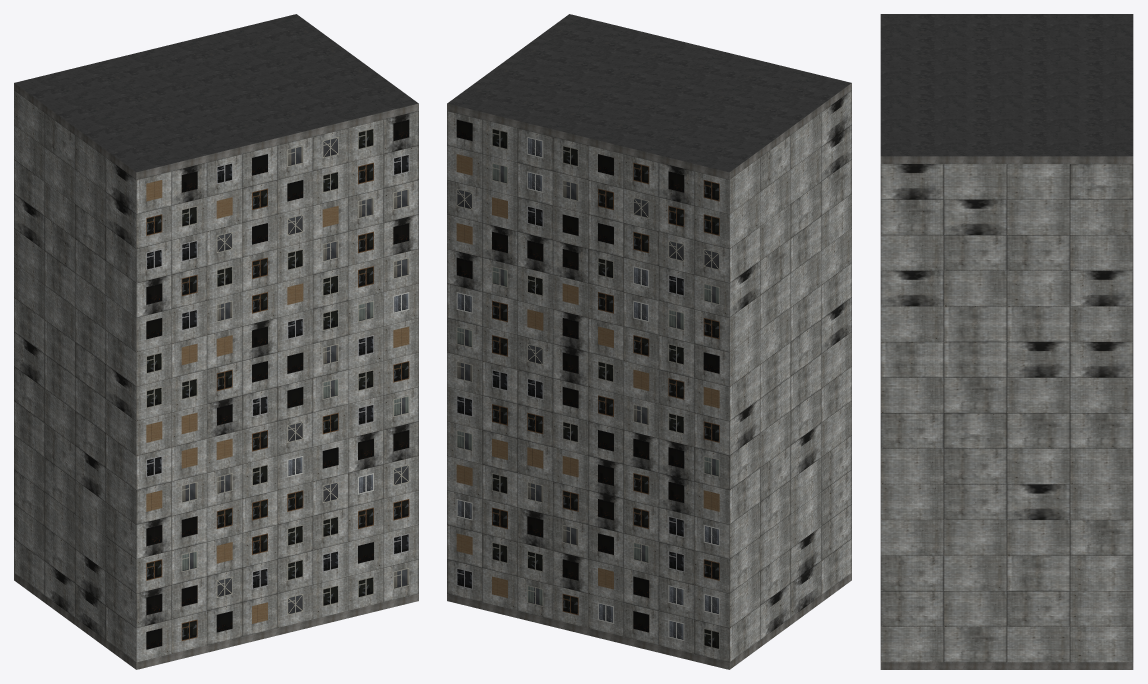
Rendered from S1U_Skyline_P9Tower.fbx.
The picture shows the model from 3 angles, left to right: view 1: azimuth 30°, elevation 25°; view 2: azimuth 150°, elevation 25°; view 3: azimuth 270°, elevation 25°; orthographic projection. The views are drawn at different scales.
Parts seen in each view (by area): view 1: S1U_Skyline_P9Tower; view 2: S1U_Skyline_P9Tower; view 3: S1U_Skyline_P9Tower.
Part boxes in pixels (left/top/right/bottom): S1U_Skyline_P9Tower: left=14, top=14, right=418, bottom=669; S1U_Skyline_P9Tower: left=447, top=14, right=851, bottom=669; S1U_Skyline_P9Tower: left=880, top=14, right=1133, bottom=669.
Bounding box in the file's own units: 24 × 40.4 × 18.04.
